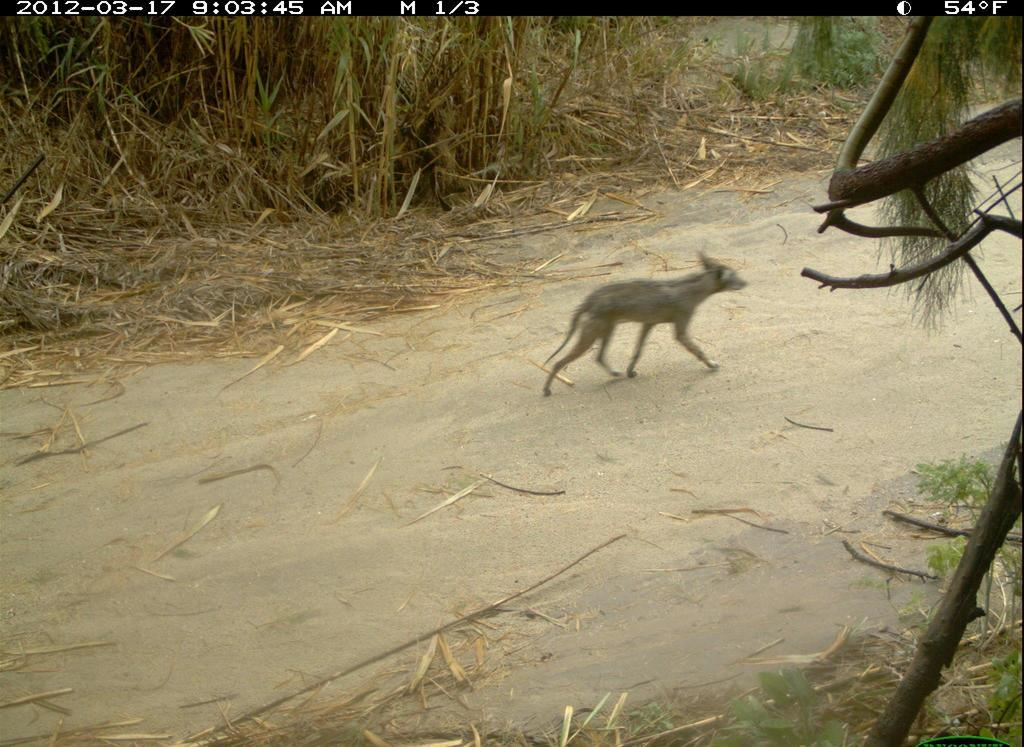coyote: (514, 235, 753, 422)
